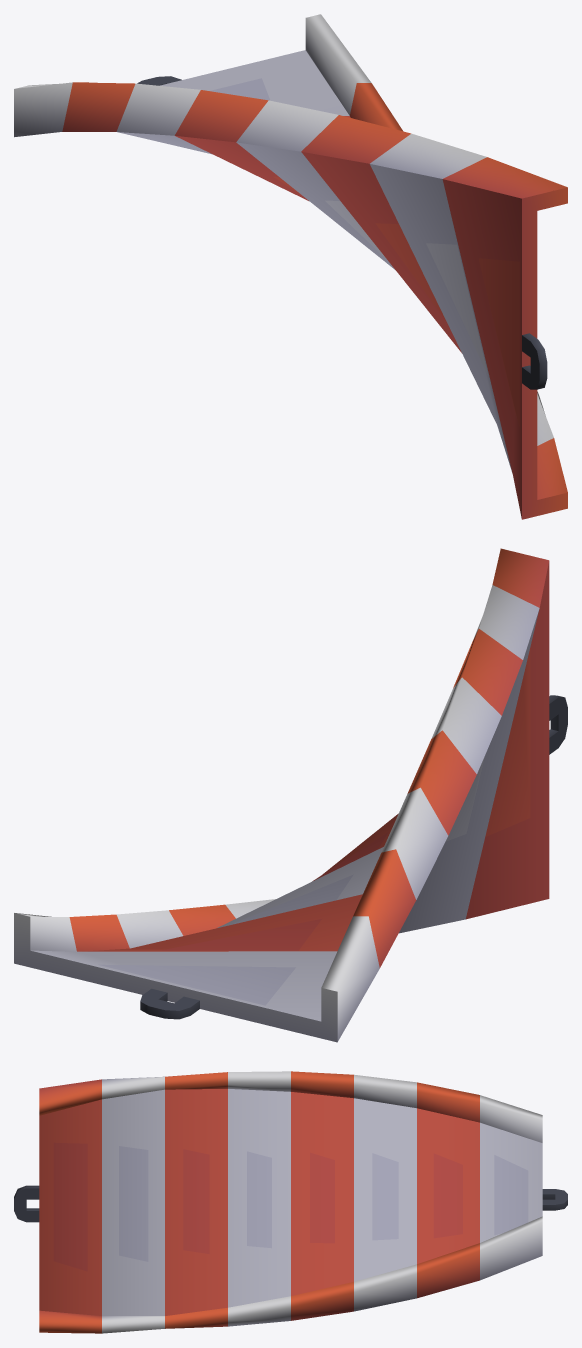
File: track-striped-wide-straight-skew-left-side.glb
3 views of the same model, one above another, from view 1: azimuth 30°, elevation 25°; view 2: azimuth 150°, elevation 25°; view 3: azimuth 270°, elevation 25° (orthographic). The views are drawn at different scales.
Visible parts, largest first — view 1: track-striped-wide-straight-skew-left-side; view 2: track-striped-wide-straight-skew-left-side; view 3: track-striped-wide-straight-skew-left-side.
Boxes of the visible parts, x1=… form: track-striped-wide-straight-skew-left-side: x1=14, y1=14, x2=567, y2=519; track-striped-wide-straight-skew-left-side: x1=14, y1=548, x2=567, y2=1042; track-striped-wide-straight-skew-left-side: x1=14, y1=1071, x2=567, y2=1333.
Bounding box in the file's own units: 2.04 × 2.04 × 4.4.
